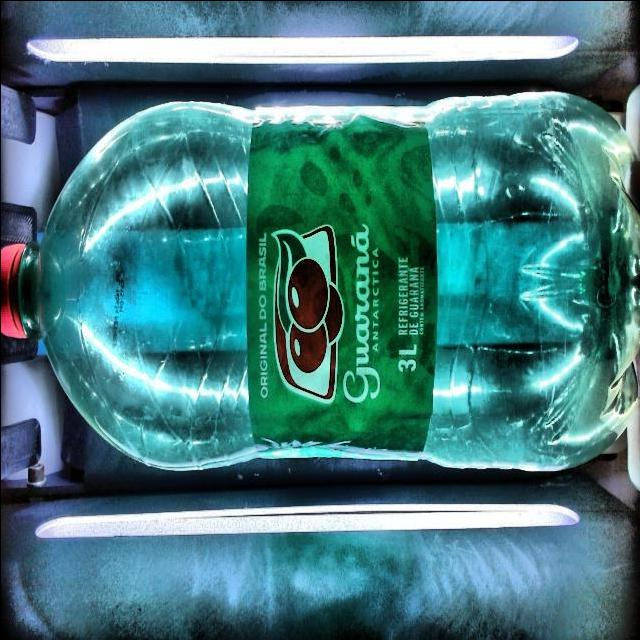bottle: (0, 92, 640, 469)
